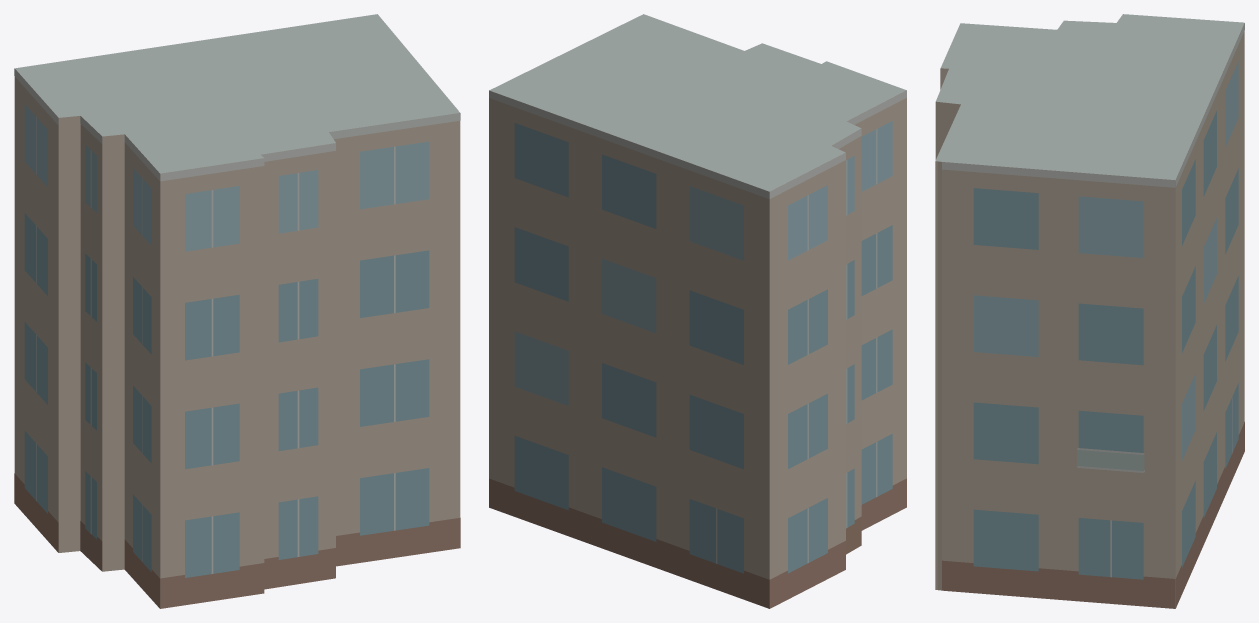
File: survey-upis-32473945.glb
The picture shows the model from 3 angles, left to right: view 1: azimuth 30°, elevation 25°; view 2: azimuth 150°, elevation 25°; view 3: azimuth 270°, elevation 25°; orthographic projection. The views are drawn at different scales.
Parts seen in each view (by area): view 1: survey-upis-32473945.tmp; view 2: survey-upis-32473945.tmp; view 3: survey-upis-32473945.tmp.
Part boxes in pixels (x1=…): survey-upis-32473945.tmp: x1=14, y1=14, x2=460, y2=608; survey-upis-32473945.tmp: x1=489, y1=14, x2=906, y2=608; survey-upis-32473945.tmp: x1=935, y1=14, x2=1244, y2=608.
Bounding box in the file's own units: 11.4 × 13.7 × 8.98.
